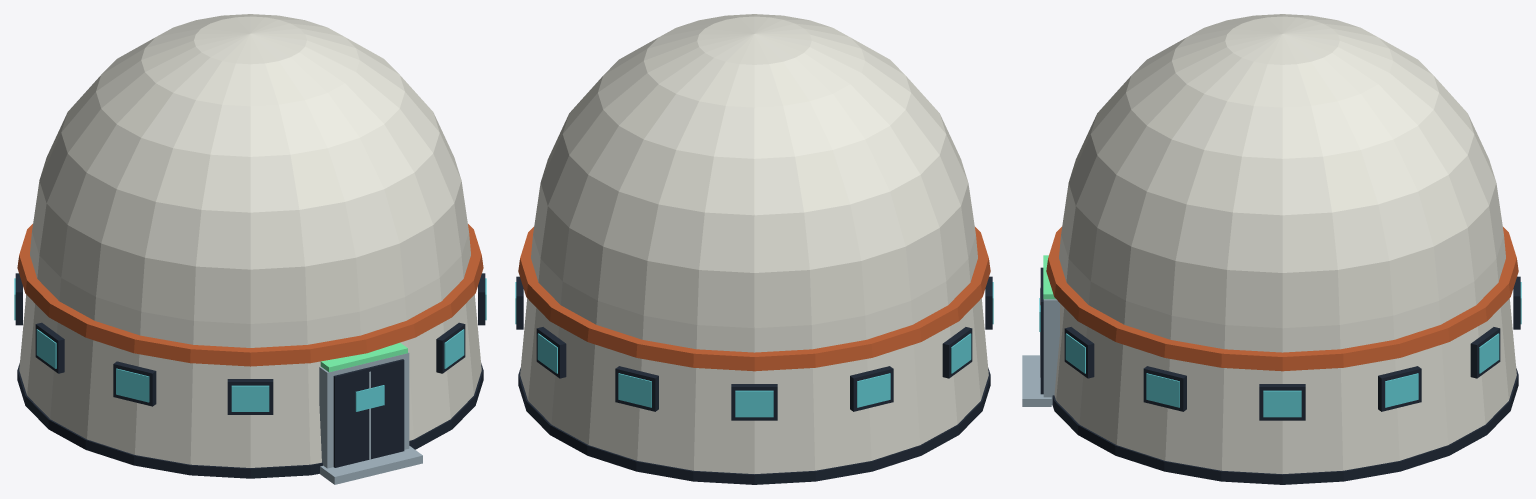
File: hab.obj
3 renders of one model, left to right at view 1: azimuth 30°, elevation 25°; view 2: azimuth 150°, elevation 25°; view 3: azimuth 270°, elevation 25°, orthographic.
Visible parts, largest first — view 1: Dome, Habitat_wall, Service_band, Airlock_door, Foundation, Airlock_frame, Door_step, Window_11, Door_beacon, Window_10, Window_frame_10, Window_frame_11 (+5 smaller); view 2: Dome, Habitat_wall, Service_band, Foundation, Window_7, Window_6, Window_8, Window_frame_6, Window_frame_8, Window_frame_7, Window_frame_5, Window_frame_9 (+2 smaller); view 3: Dome, Habitat_wall, Service_band, Foundation, Airlock_frame, Window_3, Door_step, Window_2, Window_4, Window_frame_2, Window_frame_4, Window_frame_3 (+4 smaller).
Boxes of the visible parts, box(x1,y1,x2,y2) form: Dome: box(32, 14, 468, 323); Habitat_wall: box(19, 232, 481, 467); Service_band: box(17, 224, 483, 366); Airlock_door: box(333, 359, 404, 467); Foundation: box(17, 363, 483, 478); Airlock_frame: box(319, 352, 409, 468); Door_step: box(320, 446, 422, 484); Window_11: box(231, 385, 269, 411); Door_beacon: box(320, 342, 407, 372); Window_10: box(116, 368, 149, 402); Window_frame_10: box(113, 361, 156, 406); Window_frame_11: box(227, 379, 273, 414); Dome: box(533, 14, 975, 328); Habitat_wall: box(520, 235, 988, 473); Service_band: box(518, 227, 990, 371); Foundation: box(518, 368, 990, 484); Window_7: box(735, 390, 773, 417); Window_6: box(618, 373, 651, 407); Window_8: box(857, 373, 890, 407); Window_frame_6: box(615, 366, 658, 411); Window_frame_8: box(850, 366, 893, 411); Window_frame_7: box(731, 384, 777, 420); Window_frame_5: box(536, 327, 566, 378); Window_frame_9: box(942, 327, 972, 378); Dome: box(1061, 14, 1503, 328); Habitat_wall: box(1054, 235, 1516, 473); Service_band: box(1046, 226, 1518, 371); Foundation: box(1052, 368, 1518, 484); Airlock_frame: box(1043, 299, 1059, 405); Window_3: box(1263, 390, 1301, 417); Door_step: box(1022, 355, 1051, 406); Window_2: box(1146, 373, 1179, 407); Window_4: box(1385, 373, 1418, 407); Window_frame_2: box(1143, 366, 1186, 411); Window_frame_4: box(1378, 366, 1421, 411); Window_frame_3: box(1259, 384, 1305, 420).
Bounding box in the file's own units: 12.96 × 10.5 × 13.53.
